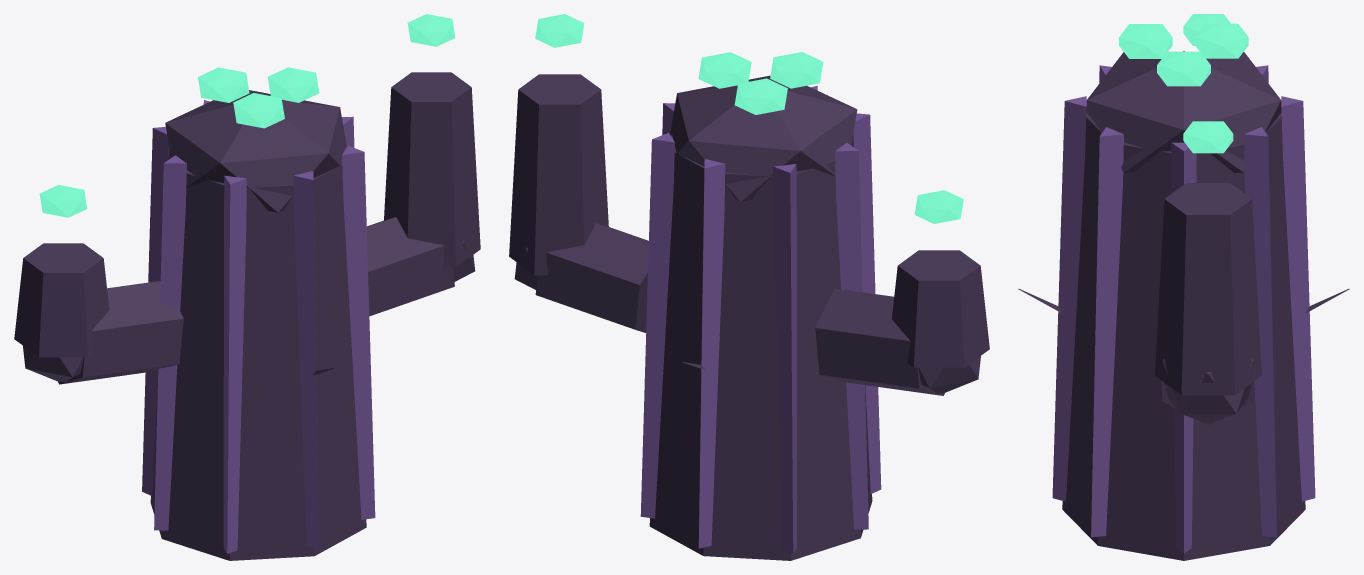
The model's file is exo-flora-barrel.glb.
3 views of the same model, side by side, from view 1: azimuth 30°, elevation 25°; view 2: azimuth 150°, elevation 25°; view 3: azimuth 270°, elevation 25° (orthographic). The views are drawn at different scales.
Parts seen in each view (by area): view 1: body; view 2: body; view 3: body.
Part boxes in pixels (x1,y1,x2,y2): body: (14,14,480,560); body: (509,14,989,560); body: (1018,14,1349,560).
Bounding box in the file's own units: 2.29 × 2.2 × 1.36.
